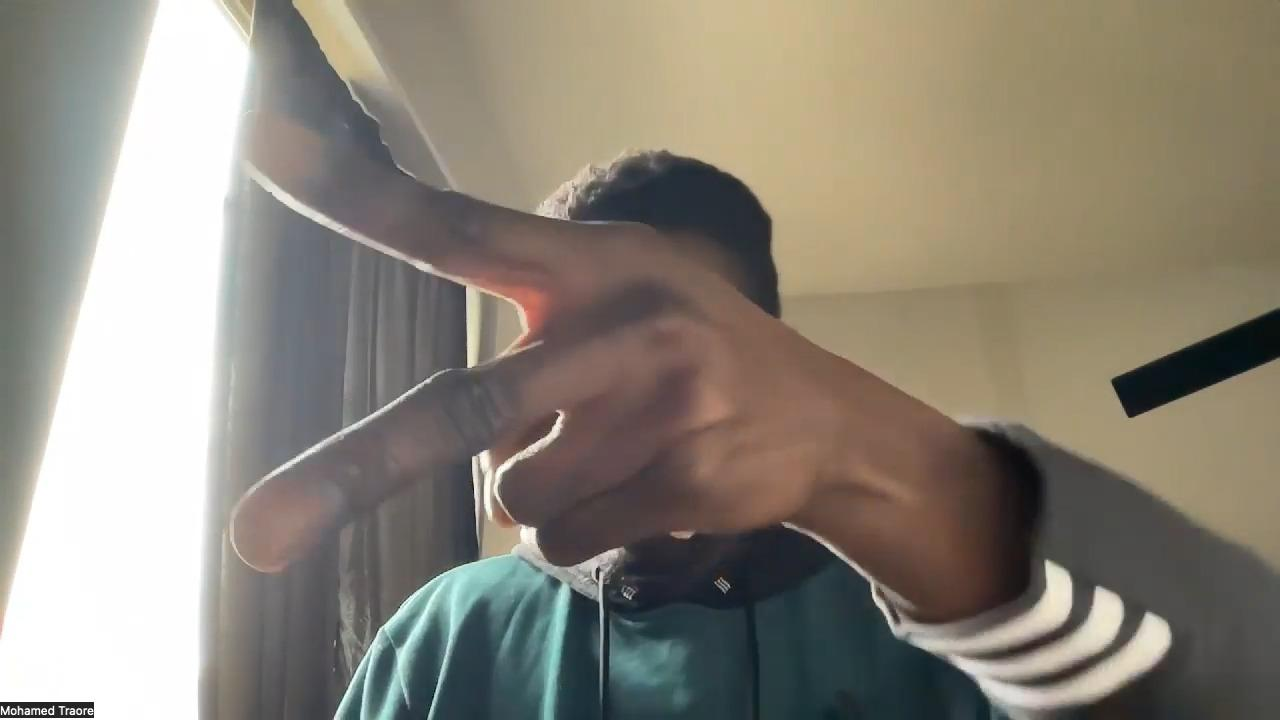Scissors: (228, 102, 831, 575)
